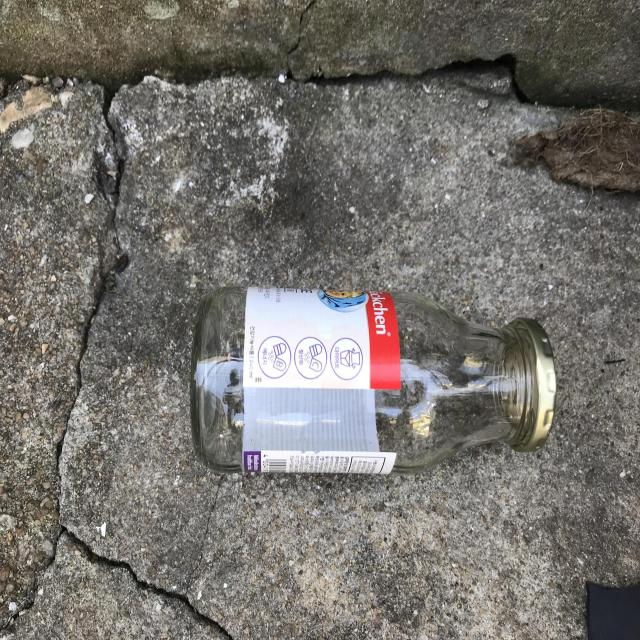glass: (191, 287, 556, 474)
